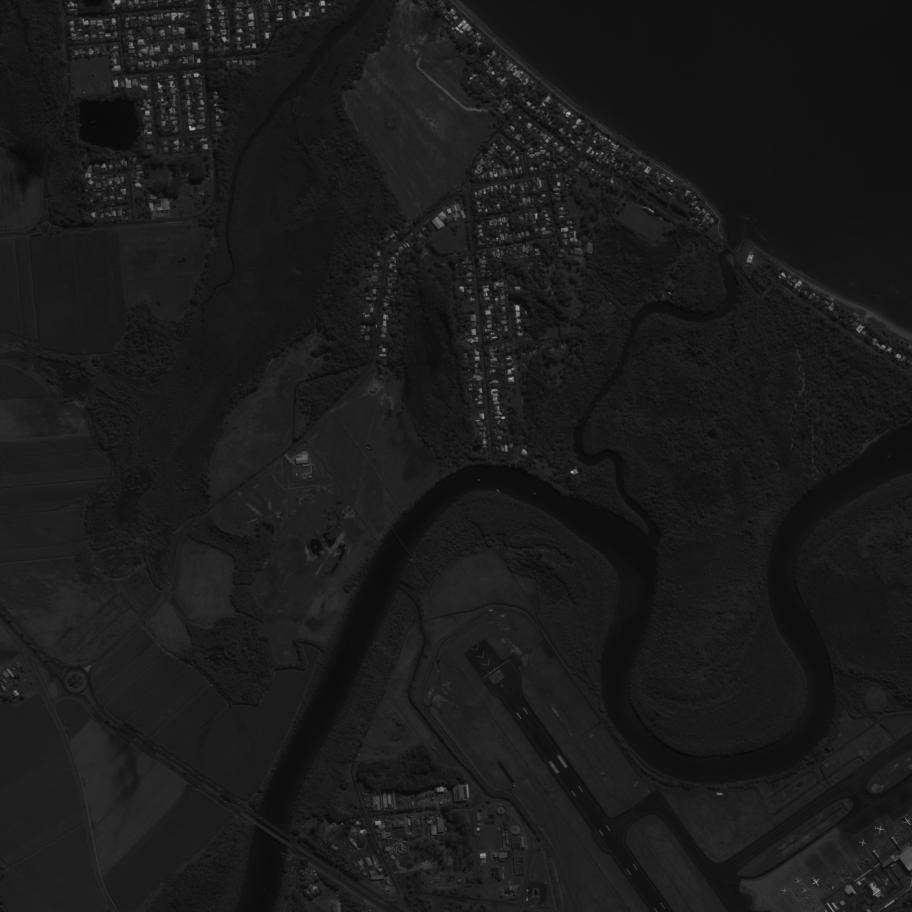plane: (808, 875, 824, 890), (899, 814, 912, 829), (873, 823, 887, 836), (858, 838, 868, 848), (799, 886, 810, 895), (793, 877, 803, 886), (780, 887, 788, 896), (526, 888, 530, 893)
